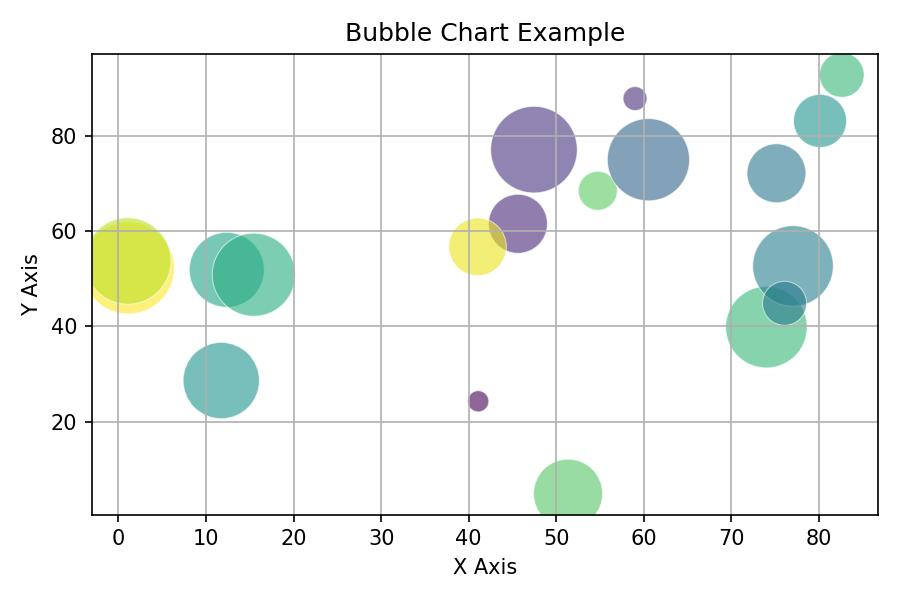axis: (75, 504, 878, 551), (49, 38, 102, 540)
circle: (91, 217, 173, 313), (492, 107, 578, 192), (725, 285, 809, 368), (216, 233, 295, 317), (608, 120, 691, 199), (755, 225, 834, 304), (184, 343, 260, 420), (189, 231, 265, 308), (534, 458, 605, 514), (482, 195, 548, 250), (744, 145, 809, 200), (450, 216, 507, 277), (791, 96, 851, 145), (815, 54, 868, 95), (764, 283, 810, 327), (578, 173, 619, 208), (620, 88, 651, 108), (467, 388, 489, 412)
